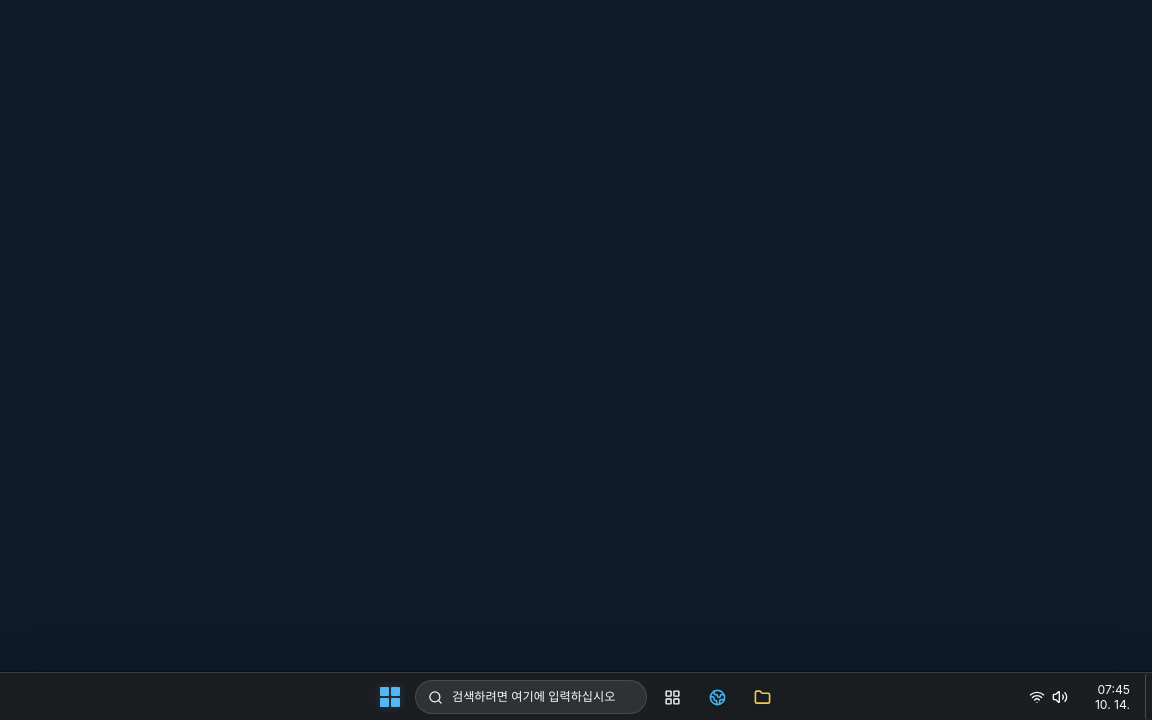
Test: 트레이 캘린더 일정 › 일정이 없으면 없다고 말한다
Click the button named "알림 센터 열기" at {"x": 1106, "y": 697}, box 1076,677 -> 1136,717
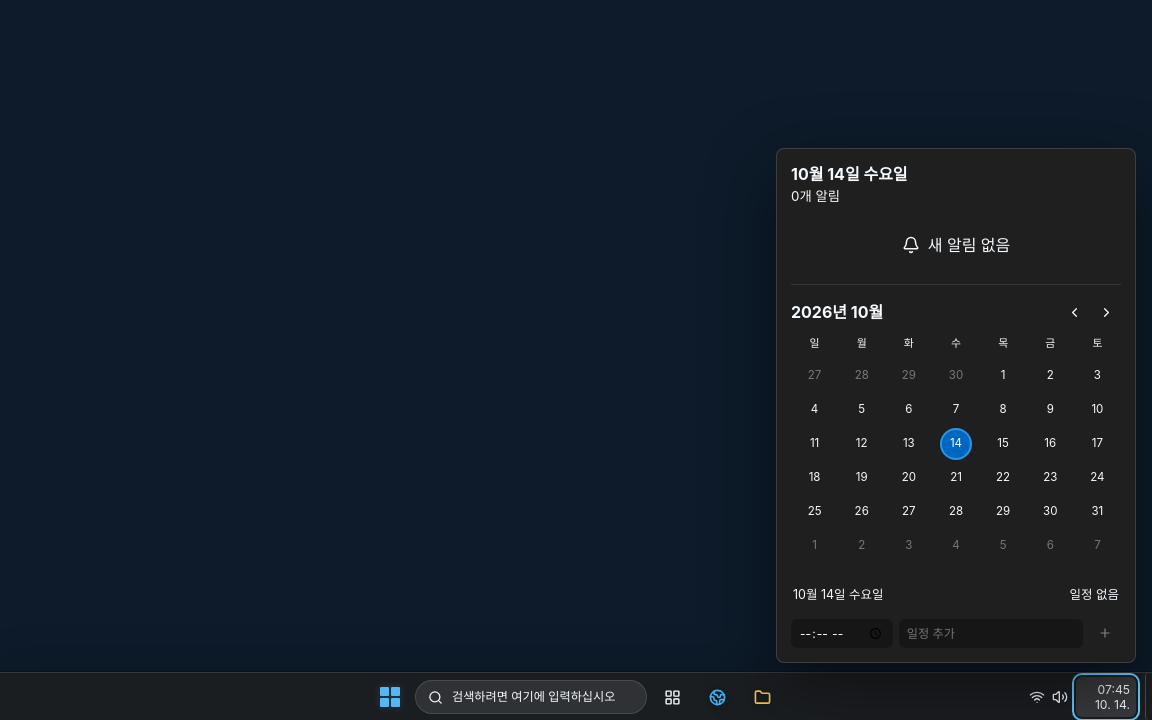
Check: the text "일정 없음" is shown, box 1070,586 -> 1119,603
